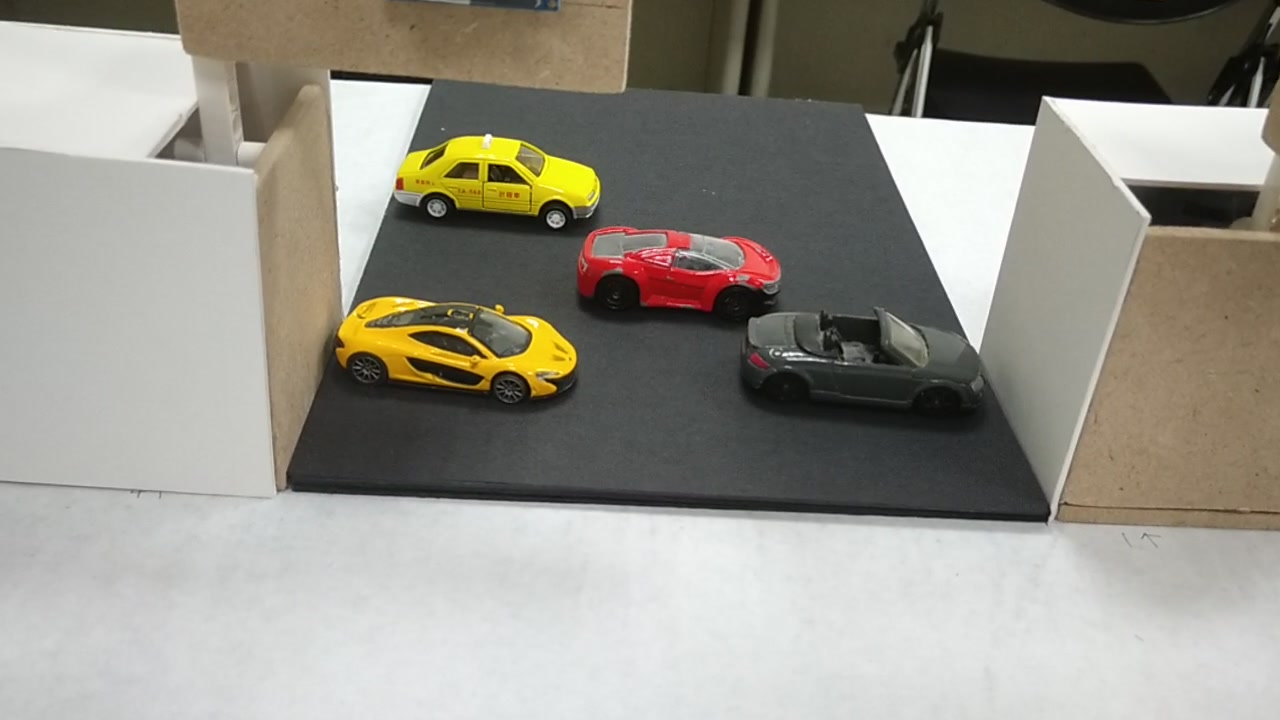car: (745, 309, 984, 420), (335, 295, 576, 400), (575, 224, 780, 314), (395, 149, 597, 222)
